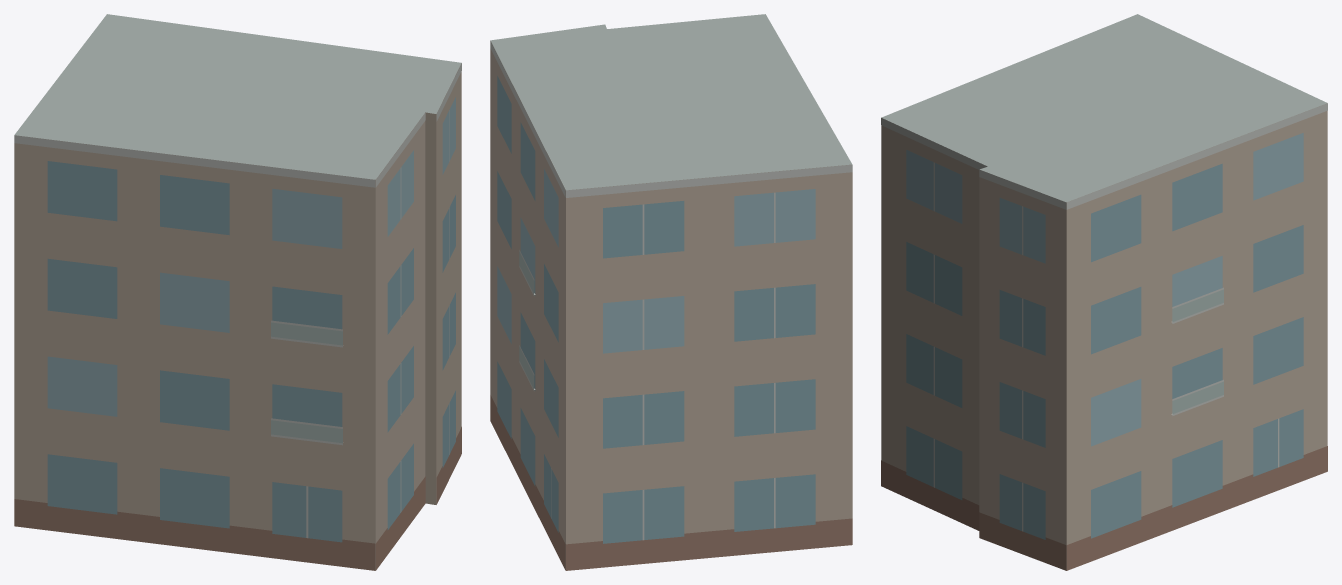
The model's file is survey-upis-32654492.glb.
3 views of the same model, side by side, from view 1: azimuth 30°, elevation 25°; view 2: azimuth 150°, elevation 25°; view 3: azimuth 270°, elevation 25° (orthographic). The views are drawn at different scales.
Visible parts, largest first — view 1: survey-upis-32654492.tmp; view 2: survey-upis-32654492.tmp; view 3: survey-upis-32654492.tmp.
Part boxes in pixels (x1=…): survey-upis-32654492.tmp: x1=14, y1=14, x2=461, y2=570; survey-upis-32654492.tmp: x1=490, y1=14, x2=852, y2=570; survey-upis-32654492.tmp: x1=881, y1=14, x2=1327, y2=570.
Bounding box in the file's own units: 13.17 × 12 × 13.19.
